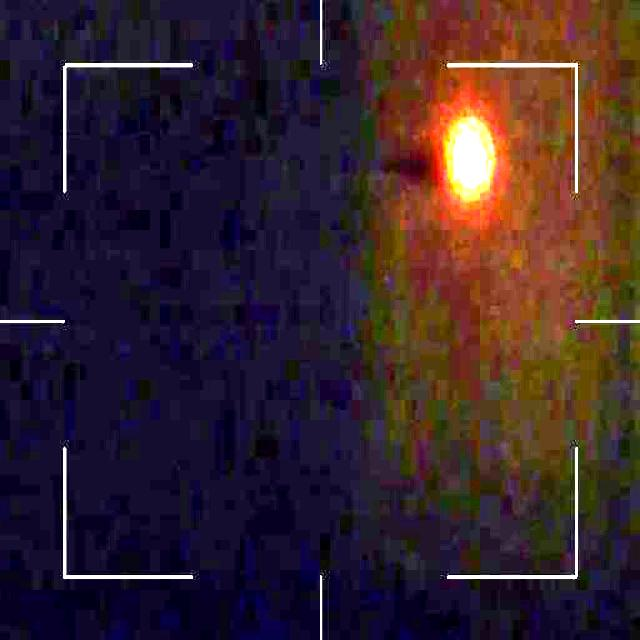bird: (446, 112, 496, 192)
